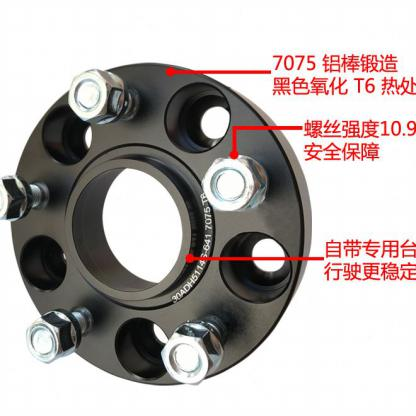FOD: (0, 54, 314, 387)
